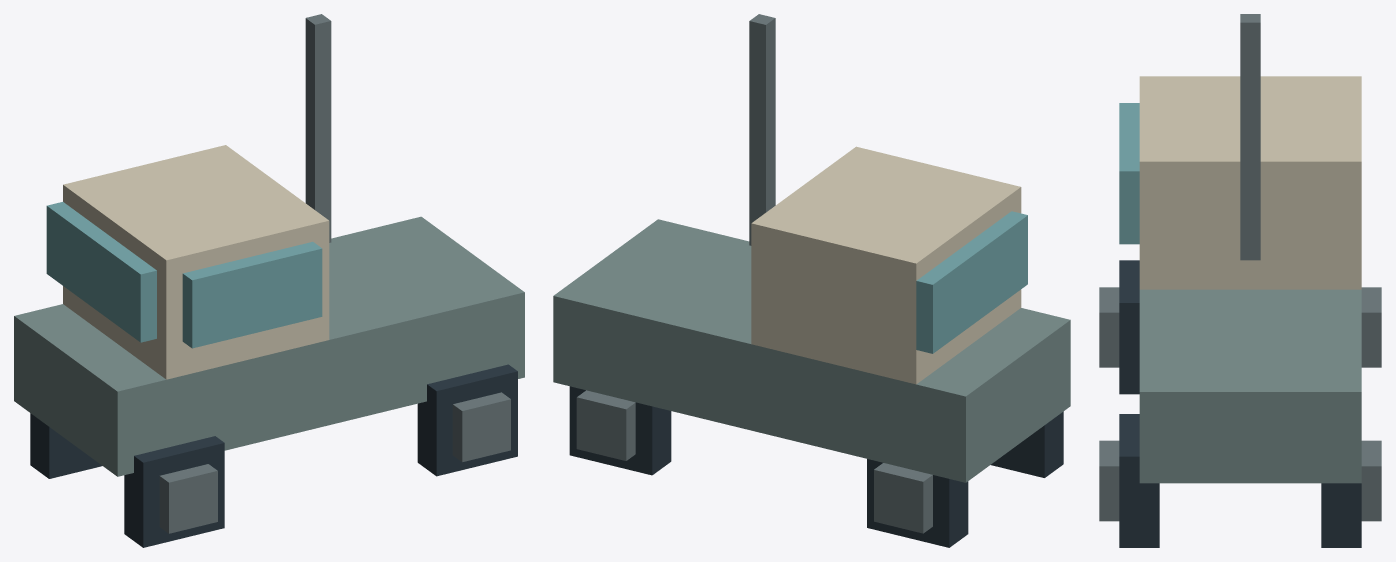
The model's file is robotics-05.glb.
3 renders of one model, left to right at view 1: azimuth 30°, elevation 25°; view 2: azimuth 150°, elevation 25°; view 3: azimuth 270°, elevation 25°, orthographic. The views are drawn at different scales.
Visible parts, largest first — view 1: Robot rover; view 2: Robot rover; view 3: Robot rover.
Boxes of the visible parts, x1,y1,x2,y2 form: Robot rover: (14,14,524,547); Robot rover: (553,14,1070,547); Robot rover: (1099,14,1381,547).
Bounding box in the file's own units: 2 × 2 × 1.12.
